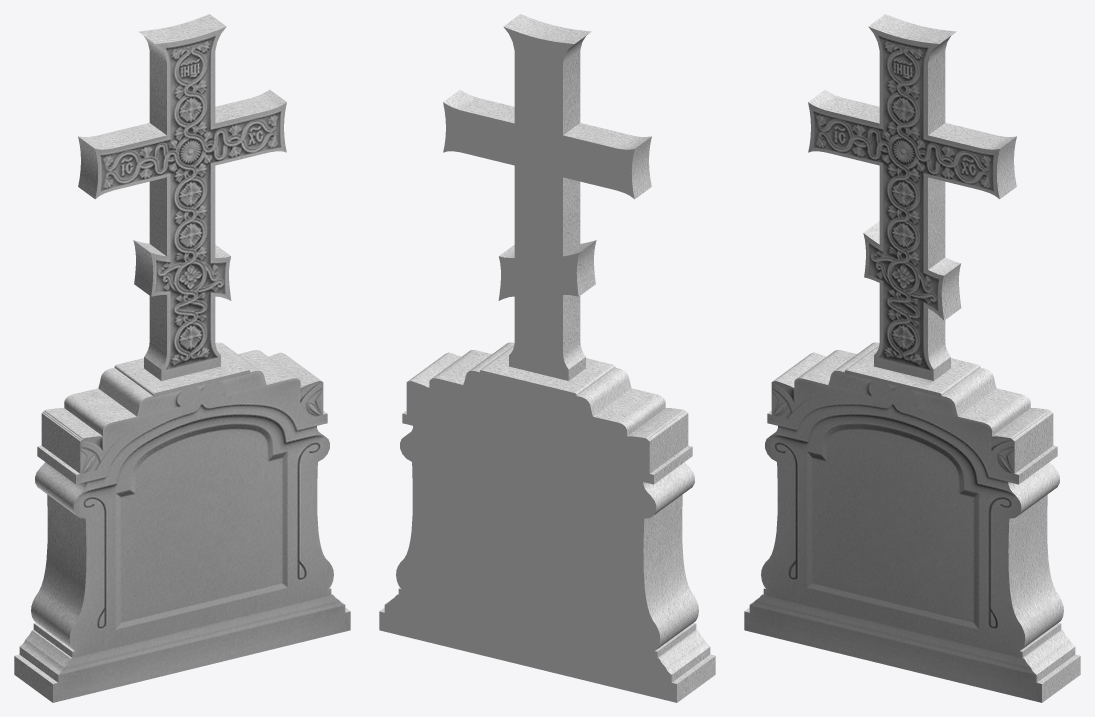
The model's file is cna2232755d1_tkf.glb.
3 renders of one model, left to right at view 1: azimuth 30°, elevation 25°; view 2: azimuth 150°, elevation 25°; view 3: azimuth 330°, elevation 25°, orthographic.
Visible parts, largest first — view 1: Pam-d02-130_2_notexture; view 2: Pam-d02-130, Pam-d02-130_2_notexture; view 3: Pam-d02-130_2_notexture.
Part boxes in pixels (left/top/right/bottom): Pam-d02-130_2_notexture: left=14, top=14, right=350, bottom=702; Pam-d02-130: left=379, top=27, right=676, bottom=702; Pam-d02-130_2_notexture: left=379, top=14, right=715, bottom=702; Pam-d02-130_2_notexture: left=744, top=14, right=1080, bottom=702.
Size of the model in its own units: 0.4 by 0.8 by 0.09.
Materials: 1 (1 with a texture image).
